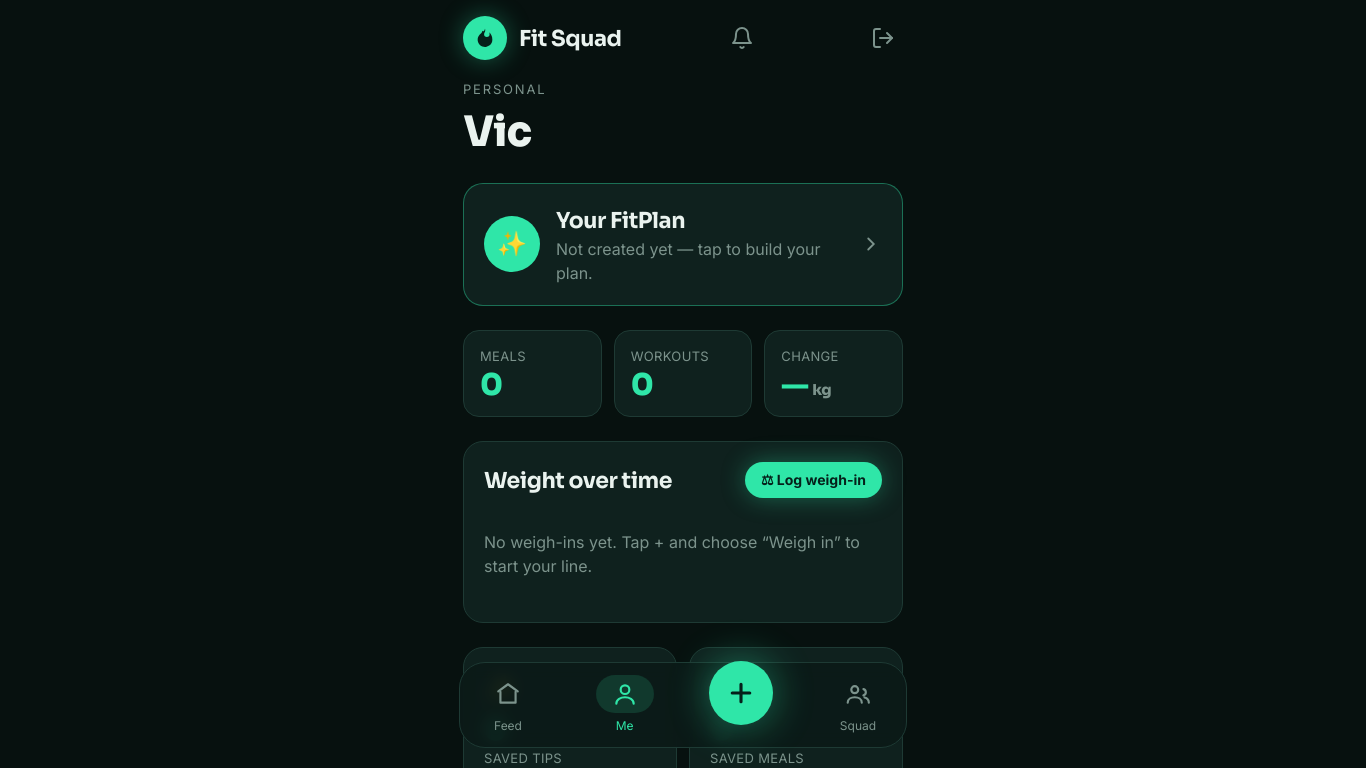
Test: logging from the + button › opens on the picker, with no type pre-chosen
Expected: the heading "Weight over time" is shown, 484,464 -> 672,496
Click the button named "add log": click(741, 693) 709,661 -> 773,725
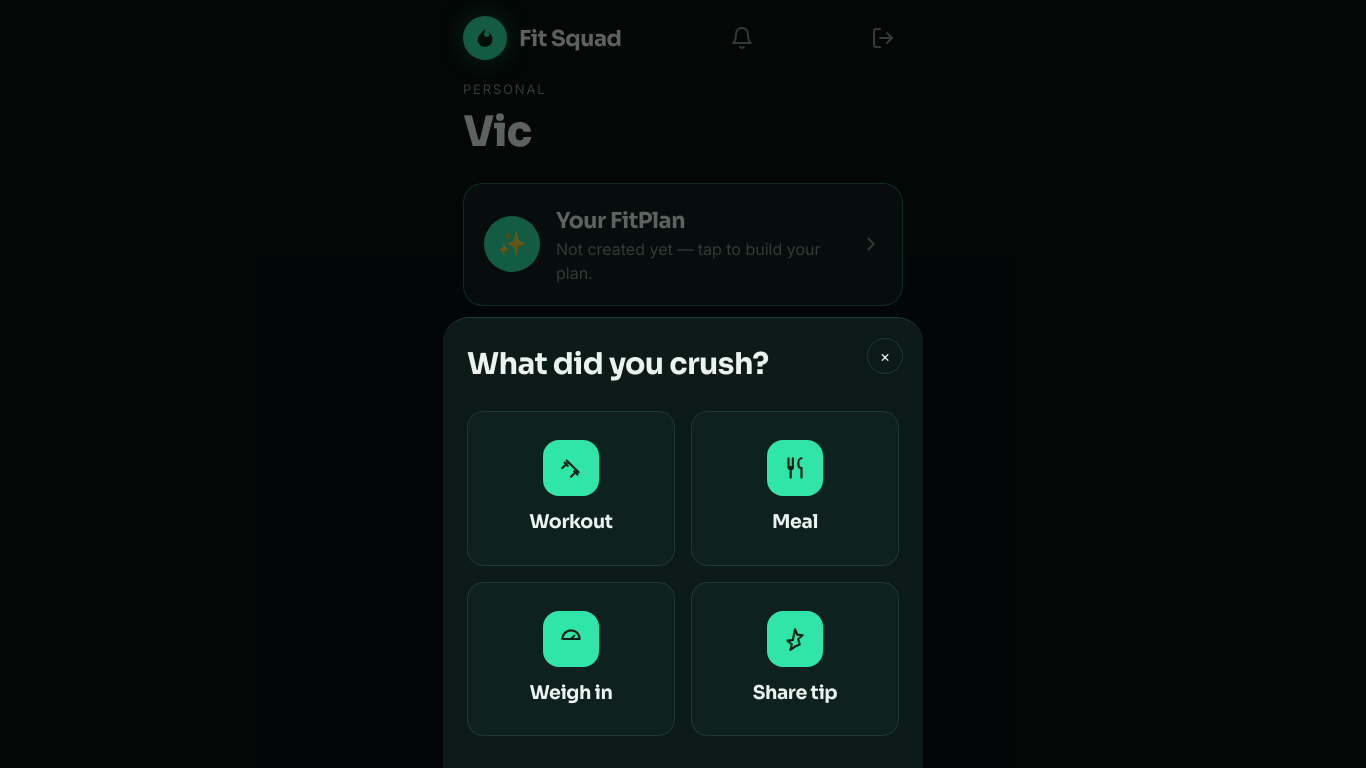
Now the heading "What did you crush?" is shown, box 467,345 -> 768,383
